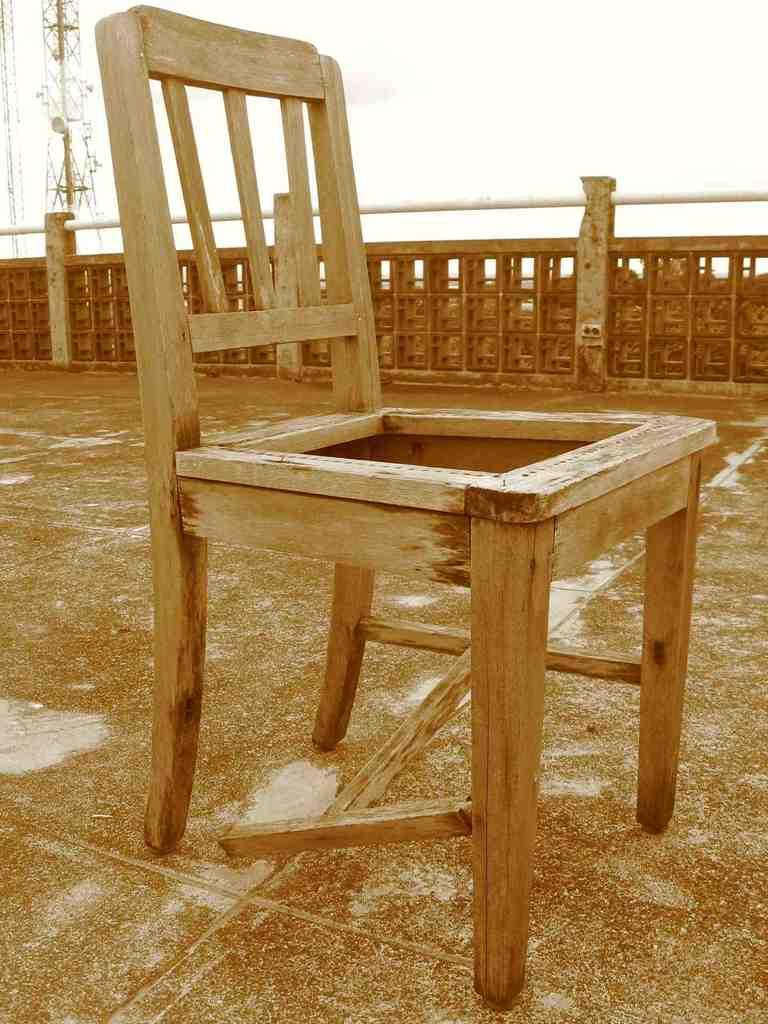Chair: (84, 82, 690, 945)
